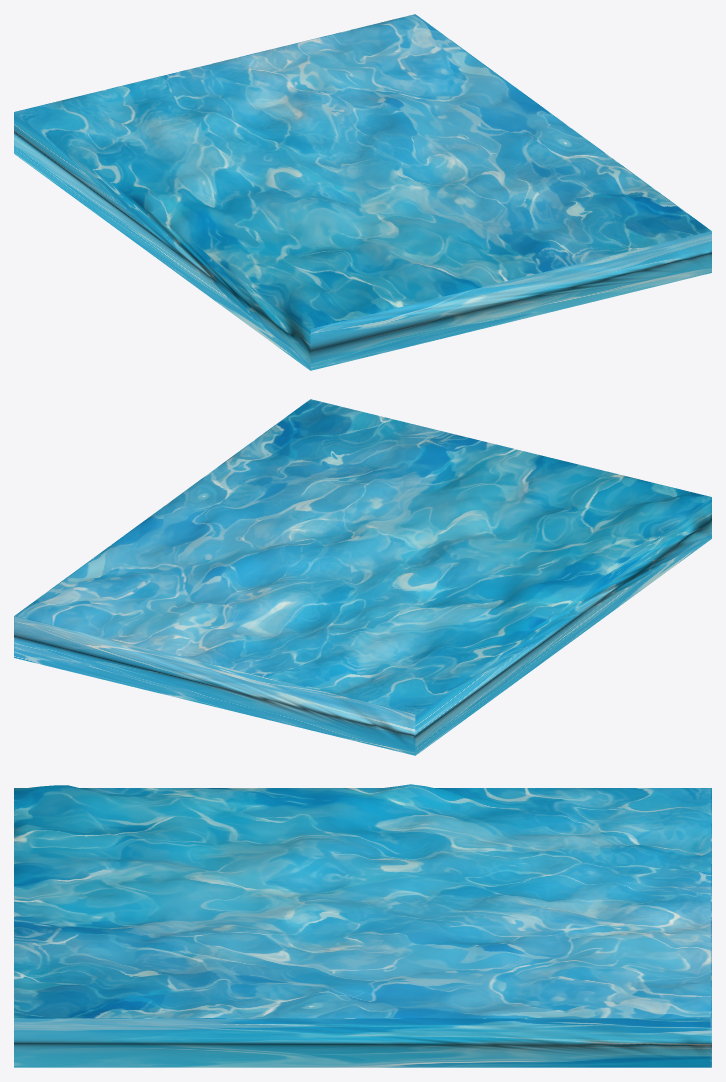
File: MoveWater.fbx
The picture shows the model from 3 angles, top to bottom: view 1: azimuth 30°, elevation 25°; view 2: azimuth 150°, elevation 25°; view 3: azimuth 270°, elevation 25°; orthographic projection. The views are drawn at different scales.
Parts seen in each view (by area): view 1: MoveWater; view 2: MoveWater; view 3: MoveWater.
Boxes of the visible parts, x1,y1,x2,y2 form: MoveWater: [14, 14, 711, 370]; MoveWater: [14, 399, 711, 755]; MoveWater: [14, 784, 711, 1067].
Bounding box in the file's own units: 11.77 × 1.39 × 15.05.
1 material, 1 textured.
